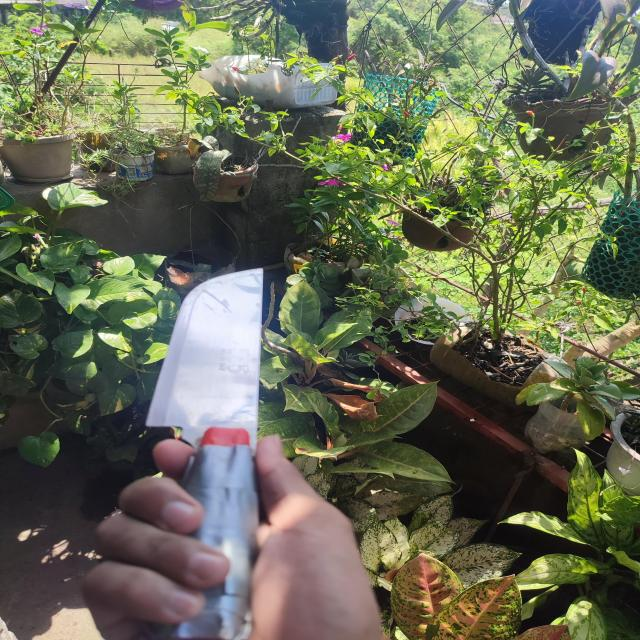knife: (146, 268, 264, 471)
